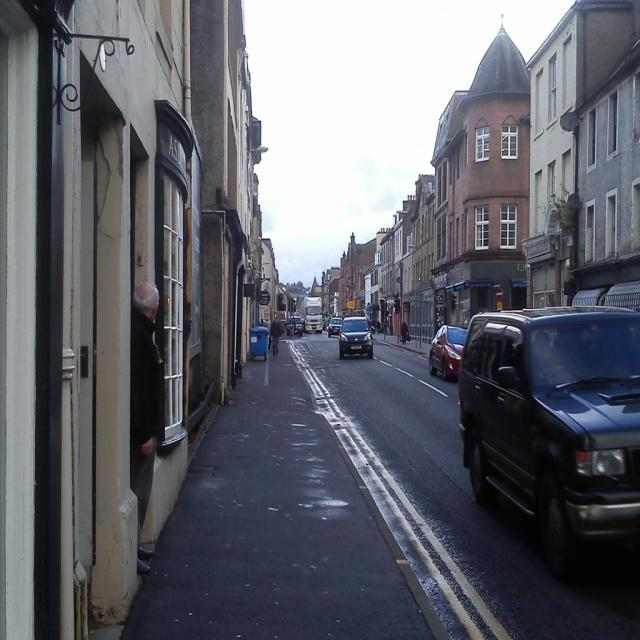car: (339, 315, 373, 360)
